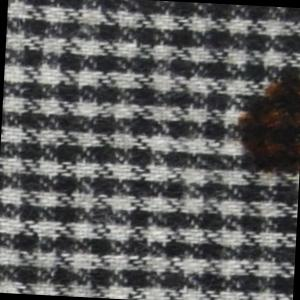Oil Stain: (230, 63, 300, 181)
